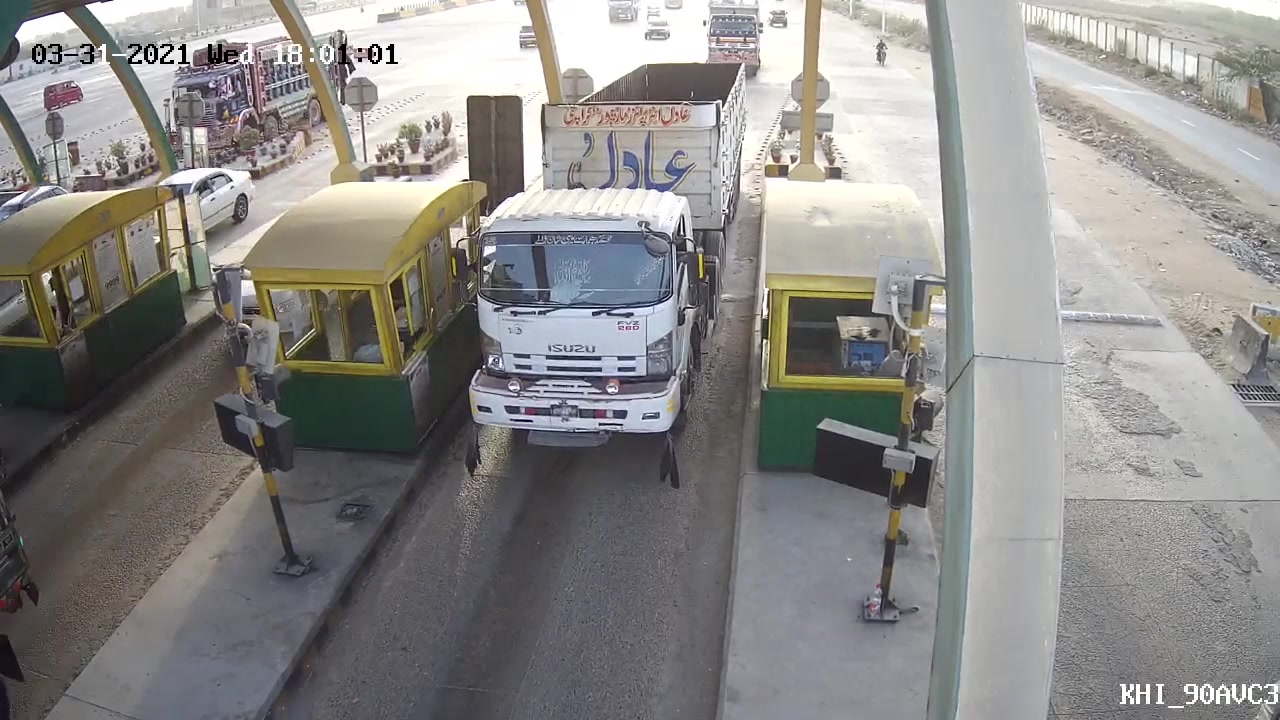F6: (465, 44, 751, 468)
